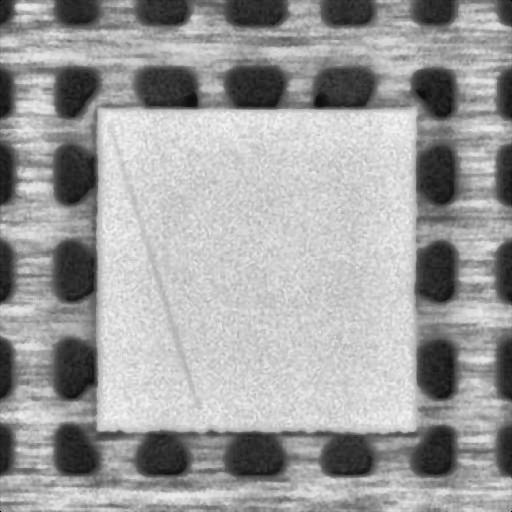DIE_CRACK: (110, 122, 201, 401)
